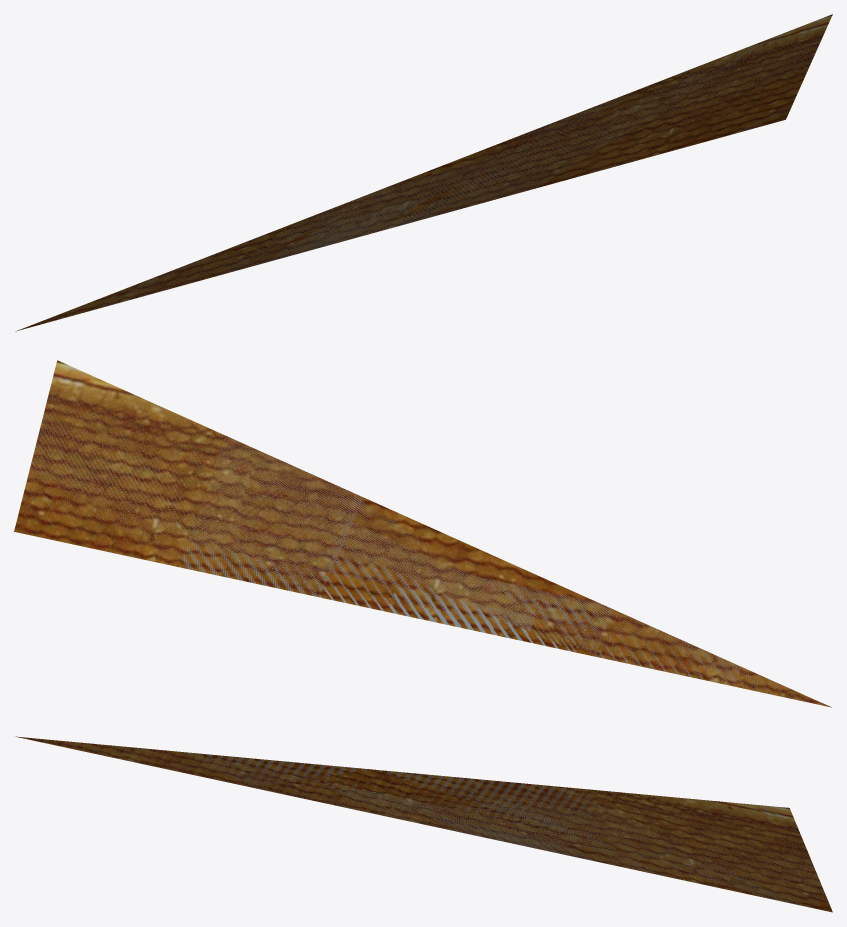
File: 西庸城堡637.dae
3 views of the same model, one above another, from view 1: azimuth 30°, elevation 25°; view 2: azimuth 150°, elevation 25°; view 3: azimuth 330°, elevation 25° (orthographic).
Parts seen in each view (by area): view 1: SketchUp; view 2: SketchUp; view 3: SketchUp.
Part boxes in pixels (box(x1,y1,x2,y2)): SketchUp: box(15, 14, 832, 331); SketchUp: box(14, 360, 831, 707); SketchUp: box(16, 736, 832, 912).
Size of the model in its own units: 356 by 35.01 by 59.06.
